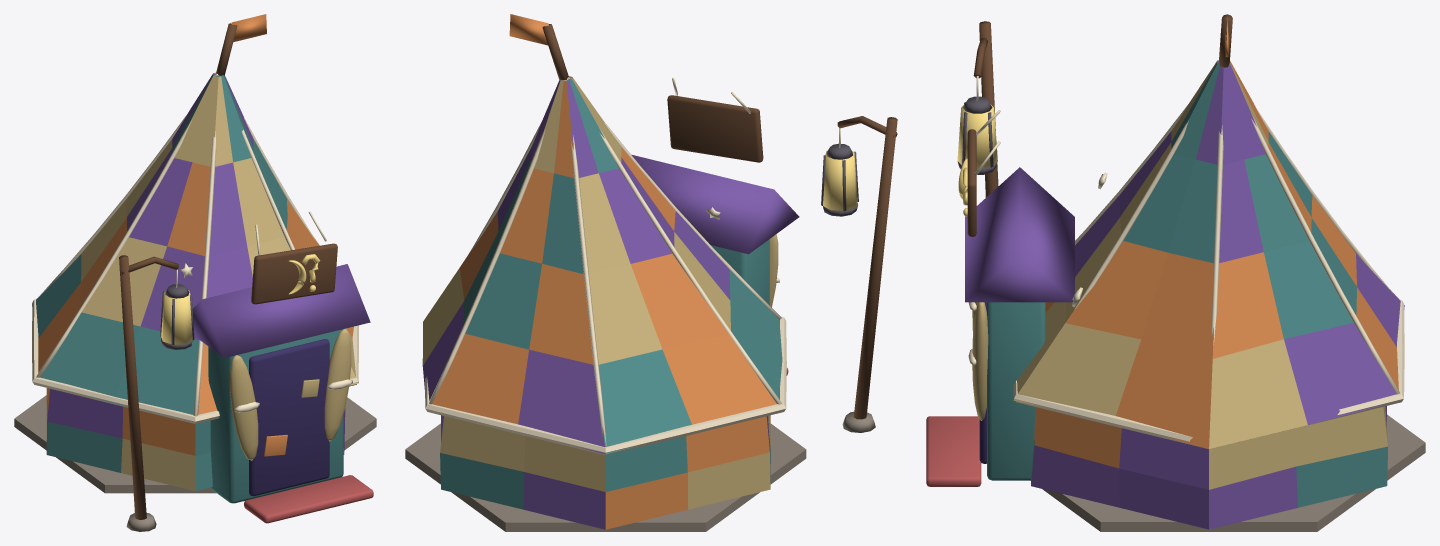
The model's file is odd-tent.glb.
3 views of the same model, side by side, from view 1: azimuth 30°, elevation 25°; view 2: azimuth 150°, elevation 25°; view 3: azimuth 270°, elevation 25° (orthographic). The views are drawn at different scales.
Visible parts, largest first — view 1: tent; view 2: tent; view 3: tent.
Part boxes in pixels (box(x1,y1,x2,y2)): tent: box(14, 14, 376, 531); tent: box(405, 14, 897, 531); tent: box(926, 14, 1425, 531).
Bounding box in the file's own units: 2.52 × 2.79 × 2.72.
